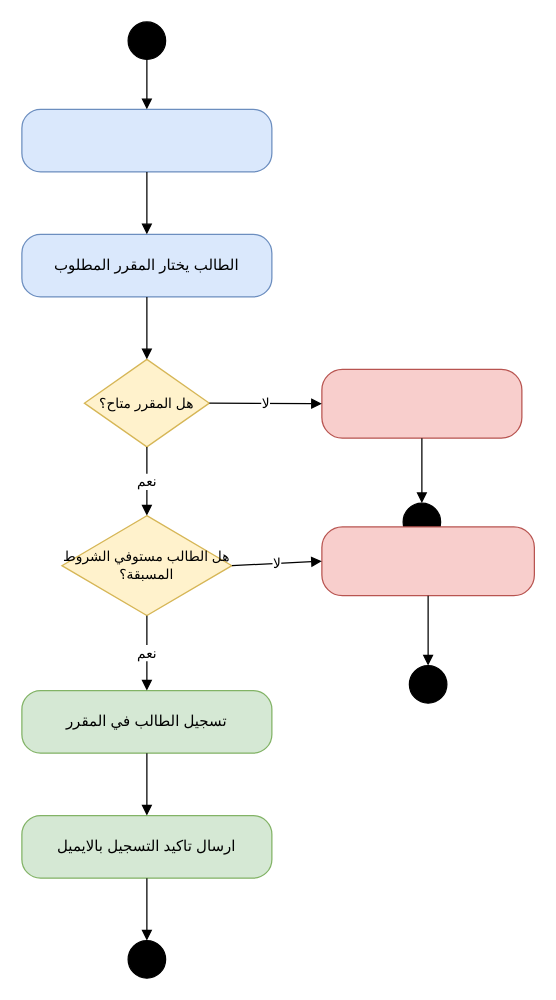
Image size: 556x1000. Some labels were removed from this diagram. The shapes that lost their labels are listed below. From the top down, each one's centre as x and y in pixels, then its label:
pixel 146 140: الطالب يفتح صفحة التسجيل
pixel 421 403: عرض رسالة: المقرر مكتمل
pixel 427 561: عرض رسالة: الشروط المسبقة غير مستوفاة
